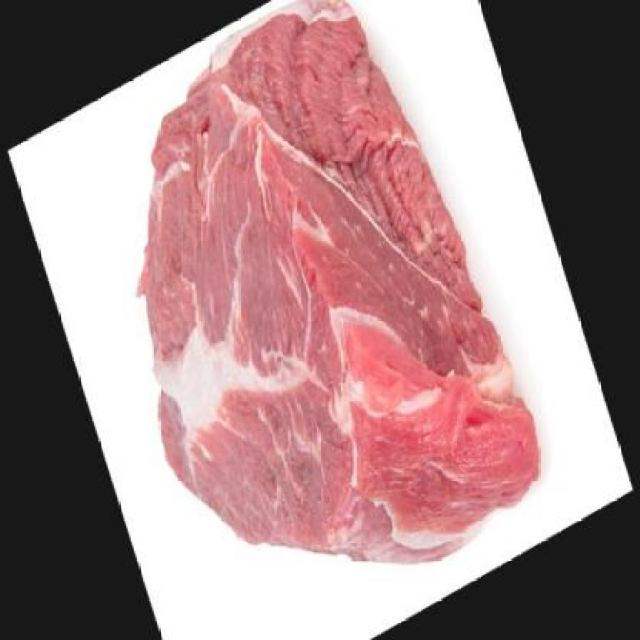beef: (61, 0, 560, 638)
